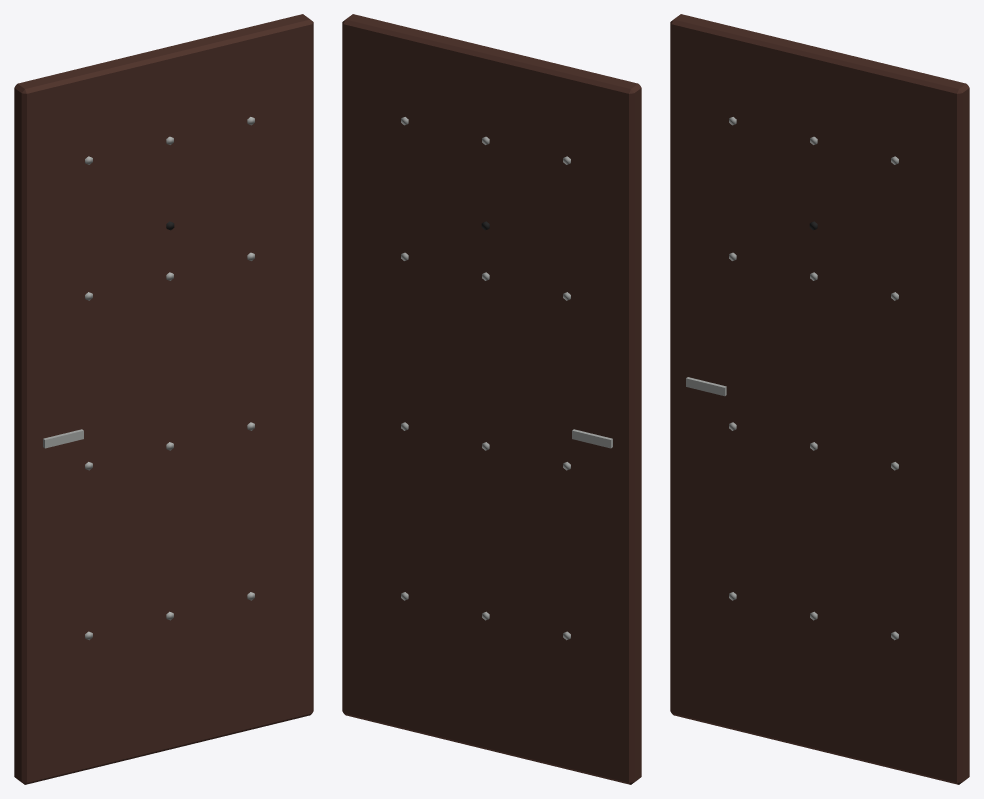
Rendered from door_apartment.glb.
3 renders of one model, left to right at view 1: azimuth 30°, elevation 25°; view 2: azimuth 150°, elevation 25°; view 3: azimuth 330°, elevation 25°, orthographic.
Parts seen in each view (by area): view 1: anim_door_L; view 2: anim_door_L; view 3: anim_door_L.
Part boxes in pixels (x1=…): anim_door_L: x1=14, y1=14, x2=313, y2=784; anim_door_L: x1=342, y1=14, x2=641, y2=784; anim_door_L: x1=670, y1=14, x2=969, y2=784.
Size of the model in its own units: 0.9 by 2.05 by 0.08.
